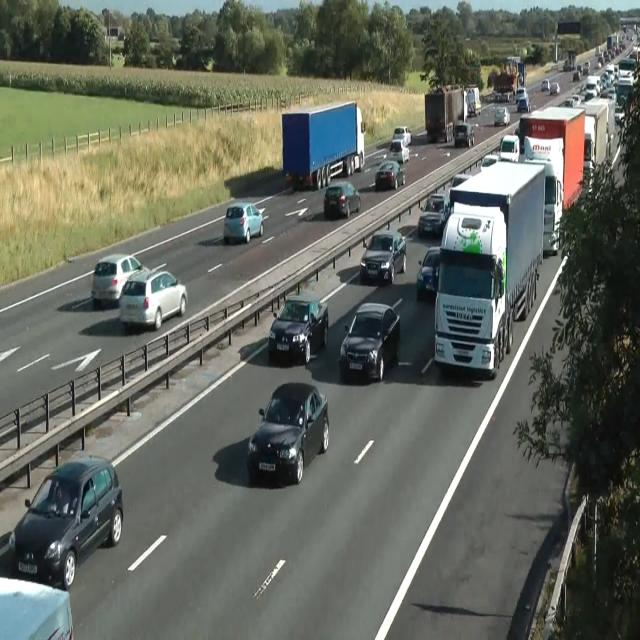bus: (247, 380, 329, 484), (0, 575, 74, 639), (268, 294, 328, 364), (222, 202, 264, 244), (324, 181, 361, 219), (418, 193, 448, 237), (416, 246, 440, 300), (374, 160, 406, 190), (383, 138, 409, 164), (499, 133, 519, 162), (454, 121, 474, 148), (392, 125, 412, 146), (450, 172, 470, 190), (494, 107, 510, 126), (481, 154, 498, 170), (558, 96, 580, 108), (514, 87, 528, 103), (517, 97, 530, 113), (549, 82, 560, 94), (541, 78, 549, 92)
jeep: (8, 450, 124, 590), (338, 300, 400, 382), (119, 262, 188, 331), (90, 252, 142, 308), (359, 230, 406, 284)
minibus: (434, 160, 546, 379), (496, 105, 586, 256), (282, 100, 366, 190), (558, 95, 616, 189), (424, 84, 468, 144), (490, 56, 526, 101), (465, 85, 481, 116)
